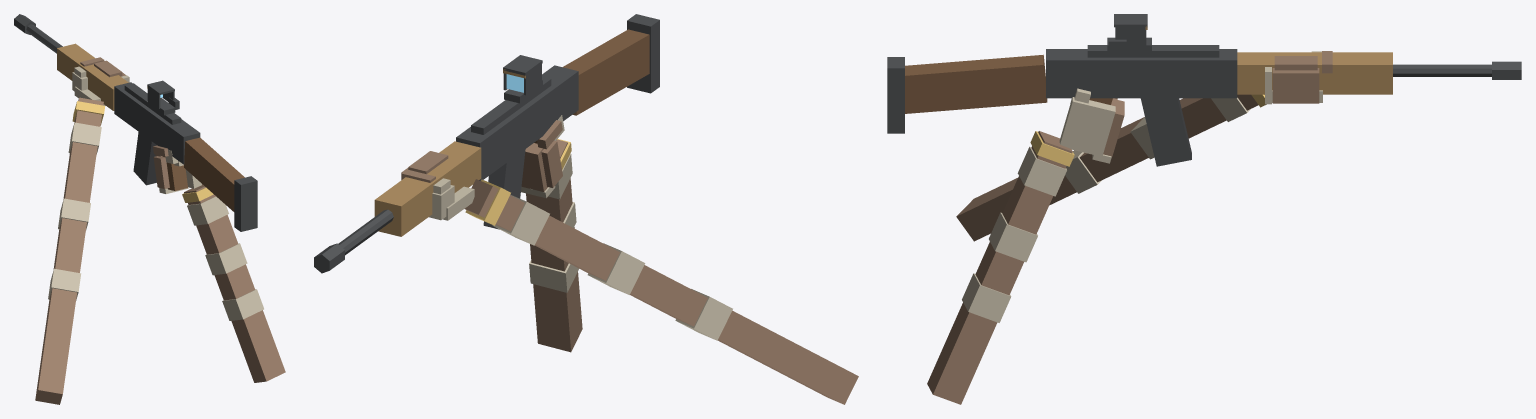
The model's file is rifle.glb.
3 views of the same model, side by side, from view 1: azimuth 30°, elevation 25°; view 2: azimuth 150°, elevation 25°; view 3: azimuth 270°, elevation 25° (orthographic). The views are drawn at different scales.
Visible parts, largest first — view 1: RL_Forearm, RR_Forearm, R_Receiver, R_Stock, R_Handguard, R_Butt, R_Mag, RR_Wrap1, RR_Wrap2, RR_Wrap0, RL_Wrap0, RL_Wrap1 (+9 smaller); view 2: RL_Forearm, R_Receiver, RR_Forearm, R_Handguard, R_Stock, R_Butt, RL_Wrap1, RL_Wrap2, RL_Wrap0, R_Mag, R_Rail, RR_Wrap2 (+9 smaller); view 3: R_Receiver, RR_Forearm, R_Stock, RL_Forearm, R_Handguard, R_Mag, RR_Palm, RL_Fingers, R_Rail, R_Butt, RR_Wrap0, RR_Wrap1 (+9 smaller).
Boxes of the visible parts, x1,y1,x2,y2 form: RL_Forearm: [35, 97, 103, 404]; RR_Forearm: [184, 184, 285, 382]; R_Receiver: [114, 82, 200, 164]; R_Stock: [184, 137, 244, 211]; R_Handguard: [57, 43, 128, 110]; R_Butt: [234, 176, 257, 231]; R_Mag: [133, 132, 156, 185]; RR_Wrap1: [205, 243, 247, 275]; RR_Wrap2: [222, 289, 263, 320]; RR_Wrap0: [187, 196, 228, 225]; RL_Wrap0: [68, 122, 101, 153]; RL_Wrap1: [58, 198, 90, 229]; RL_Forearm: [464, 179, 858, 404]; R_Receiver: [456, 65, 578, 180]; RR_Forearm: [526, 139, 582, 352]; R_Handguard: [374, 141, 481, 236]; R_Stock: [562, 29, 649, 115]; R_Butt: [627, 14, 659, 93]; RL_Wrap1: [587, 243, 645, 294]; RL_Wrap2: [675, 289, 732, 340]; RL_Wrap0: [492, 194, 549, 245]; R_Mag: [483, 149, 525, 229]; R_Rail: [471, 76, 551, 134]; RR_Wrap2: [529, 260, 578, 292]; R_Receiver: [1046, 49, 1237, 98]; RR_Forearm: [927, 131, 1072, 404]; R_Stock: [905, 54, 1047, 113]; RL_Forearm: [956, 94, 1258, 241]; R_Handguard: [1237, 52, 1392, 94]; R_Mag: [1140, 98, 1191, 166]; RR_Palm: [1059, 97, 1115, 156]; RL_Fingers: [1272, 68, 1319, 103]; R_Rail: [1087, 45, 1219, 57]; R_Butt: [887, 57, 904, 133]; RR_Wrap0: [1017, 146, 1066, 196]; RR_Wrap1: [989, 212, 1037, 262].
Bounding box in the file's own units: 0.6203 × 0.6539 × 1.06.
